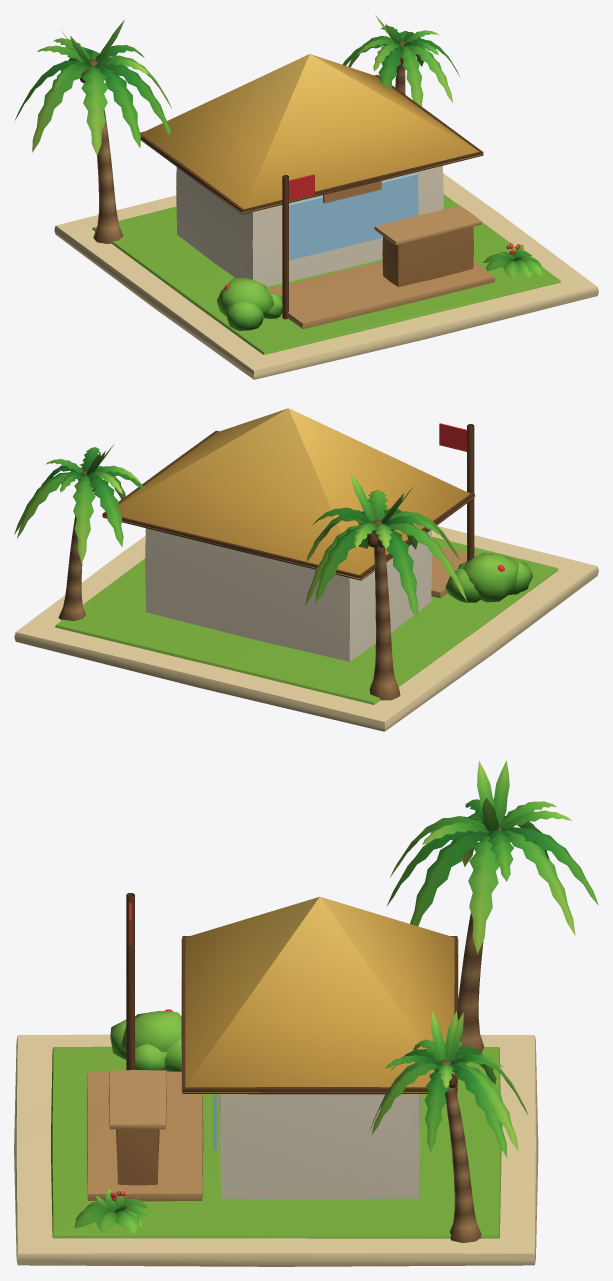
The model's file is Reception.obj.
3 renders of one model, top to bottom at view 1: azimuth 30°, elevation 25°; view 2: azimuth 150°, elevation 25°; view 3: azimuth 270°, elevation 25°, orthographic. The views are drawn at different scales.
Visible parts, largest first — view 1: Reception; view 2: Reception; view 3: Reception.
Part boxes in pixels (box(x1,y1,x2,y2)): Reception: box(15, 14, 598, 379); Reception: box(14, 408, 598, 731); Reception: box(14, 760, 598, 1266).
Size of the model in its own units: 4.29 by 2.16 by 4.02.
1 material, 1 textured.
